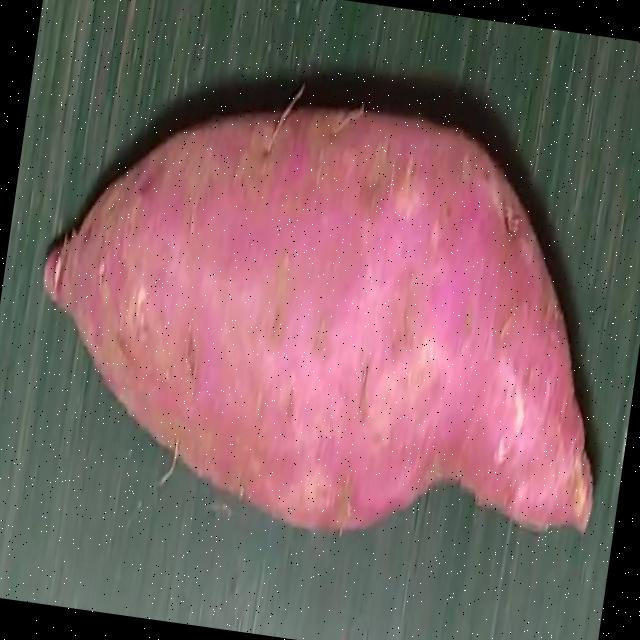Sweet Potato: (45, 102, 593, 537)
